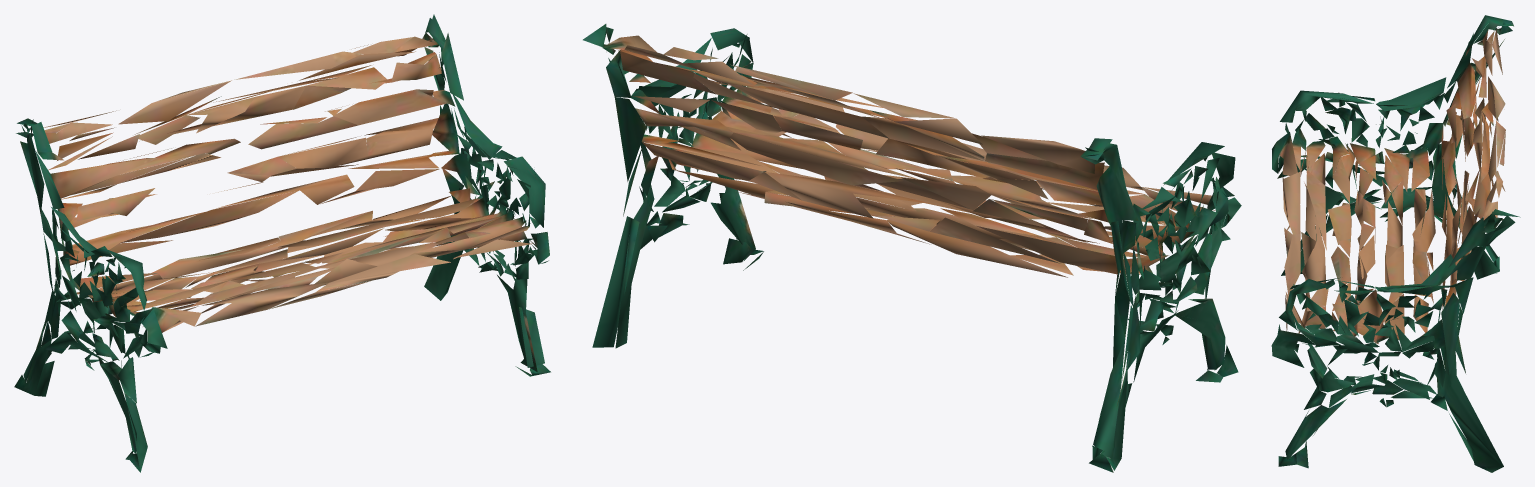
Rendered from cp_bench.glb.
3 views of the same model, side by side, from view 1: azimuth 30°, elevation 25°; view 2: azimuth 150°, elevation 25°; view 3: azimuth 270°, elevation 25° (orthographic). The views are drawn at different scales.
Visible parts, largest first — view 1: tripo_node_898a3326-af9d-4f30-8cda-f0e14c94b4b4; view 2: tripo_node_898a3326-af9d-4f30-8cda-f0e14c94b4b4; view 3: tripo_node_898a3326-af9d-4f30-8cda-f0e14c94b4b4.
Part boxes in pixels (box(x1,y1,x2,y2)): tripo_node_898a3326-af9d-4f30-8cda-f0e14c94b4b4: box(14, 14, 550, 472); tripo_node_898a3326-af9d-4f30-8cda-f0e14c94b4b4: box(583, 24, 1241, 472); tripo_node_898a3326-af9d-4f30-8cda-f0e14c94b4b4: box(1271, 15, 1520, 472).
Bounding box in the file's own units: 1.02 × 0.6283 × 0.5324.
Materials: 1 (1 with a texture image).
